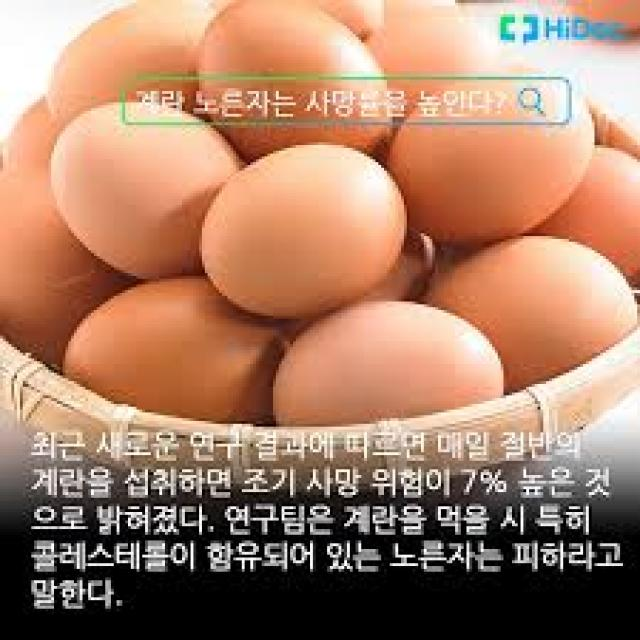Egg: (202, 145, 410, 319)
